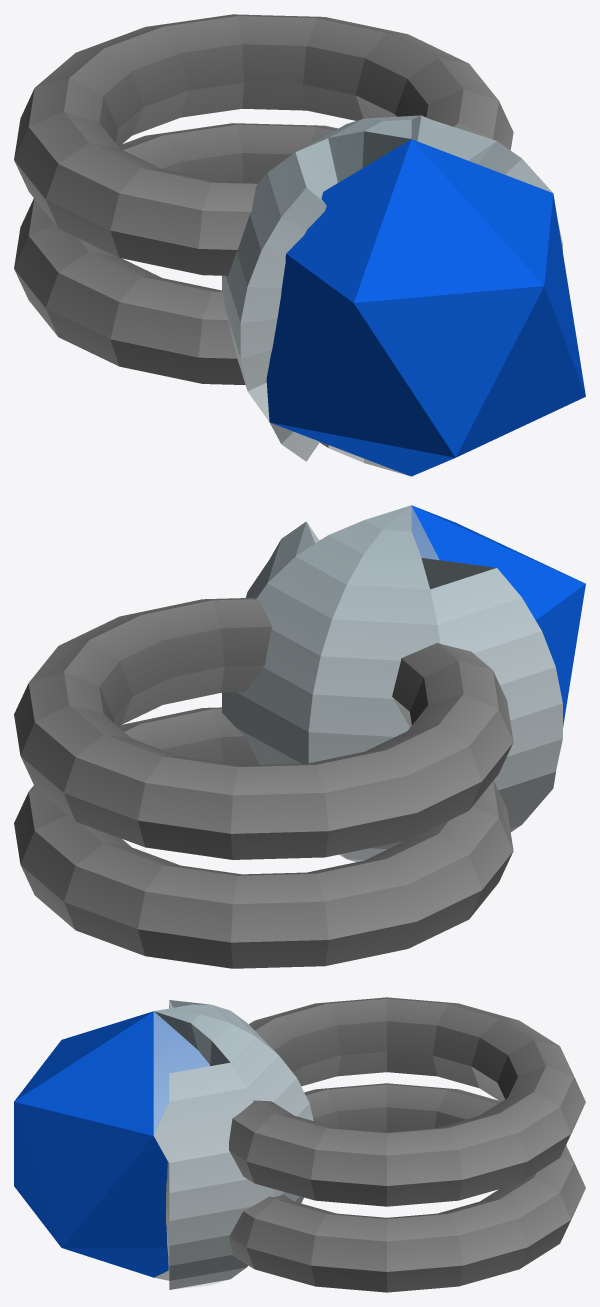
Rendered from sapphirering.fbx.
The picture shows the model from 3 angles, top to bottom: view 1: azimuth 30°, elevation 25°; view 2: azimuth 150°, elevation 25°; view 3: azimuth 270°, elevation 25°; orthographic projection. The views are drawn at different scales.
Visible parts, largest first — view 1: Torus, Torus.001; view 2: Torus, Torus.001; view 3: Torus, Torus.001.
Part boxes in pixels (box(x1,y1,x2,y2)): Torus: box(14, 14, 562, 475); Torus.001: box(266, 139, 585, 476); Torus: box(14, 505, 562, 968); Torus.001: box(319, 505, 585, 781); Torus: box(154, 997, 585, 1292); Torus.001: box(14, 1011, 209, 1277).
Size of the model in its own units: 70.98 by 52.45 by 102.
2 materials, 1 textured.
